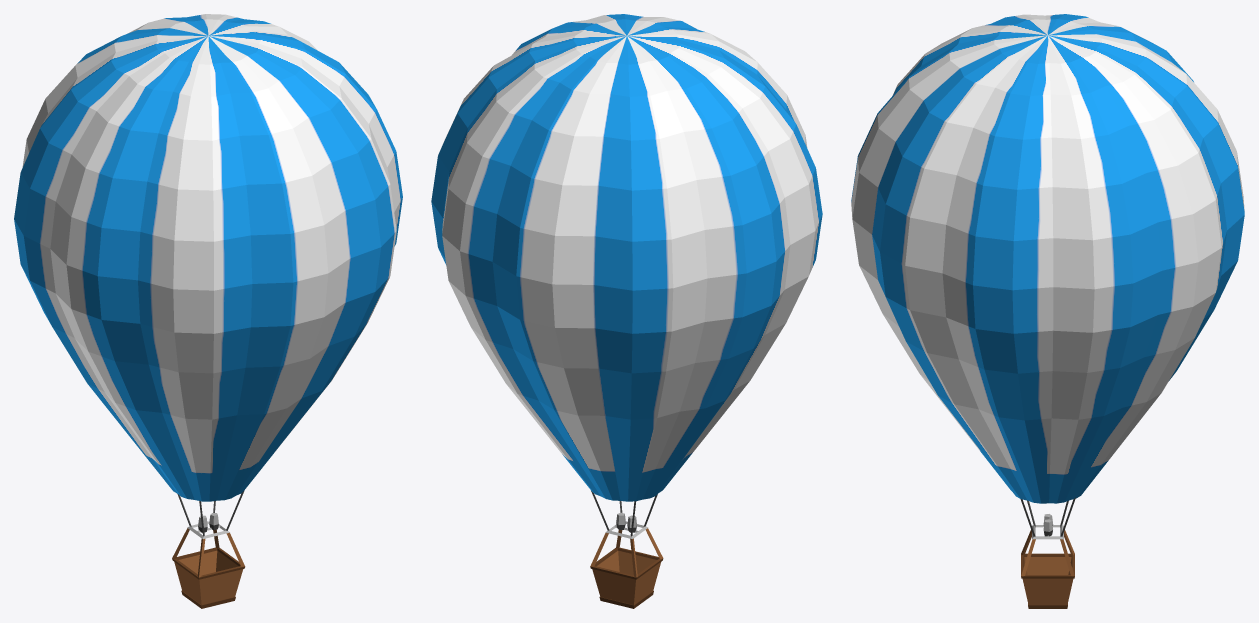
The model's file is hot_air_balloon_low_poly.glb.
3 renders of one model, left to right at view 1: azimuth 30°, elevation 25°; view 2: azimuth 150°, elevation 25°; view 3: azimuth 270°, elevation 25°, orthographic.
Parts seen in each view (by area): view 1: Hot Air Balloon; view 2: Hot Air Balloon; view 3: Hot Air Balloon.
Boxes of the visible parts, box(x1,y1,x2,y2) form: Hot Air Balloon: box(14, 14, 402, 608); Hot Air Balloon: box(431, 14, 822, 608); Hot Air Balloon: box(851, 14, 1244, 608).
Size of the model in its own units: 11.56 by 18.57 by 11.72.
Materials: 1 (1 with a texture image).
